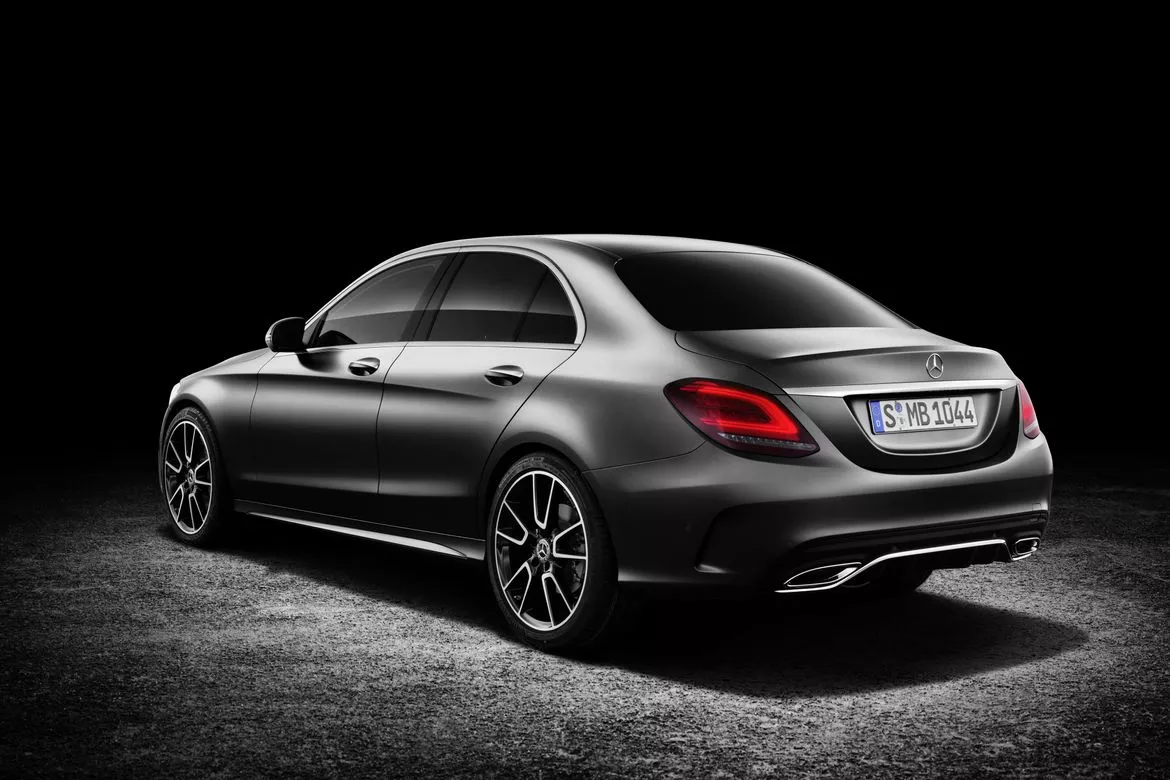cclass: (139, 214, 1078, 671)
